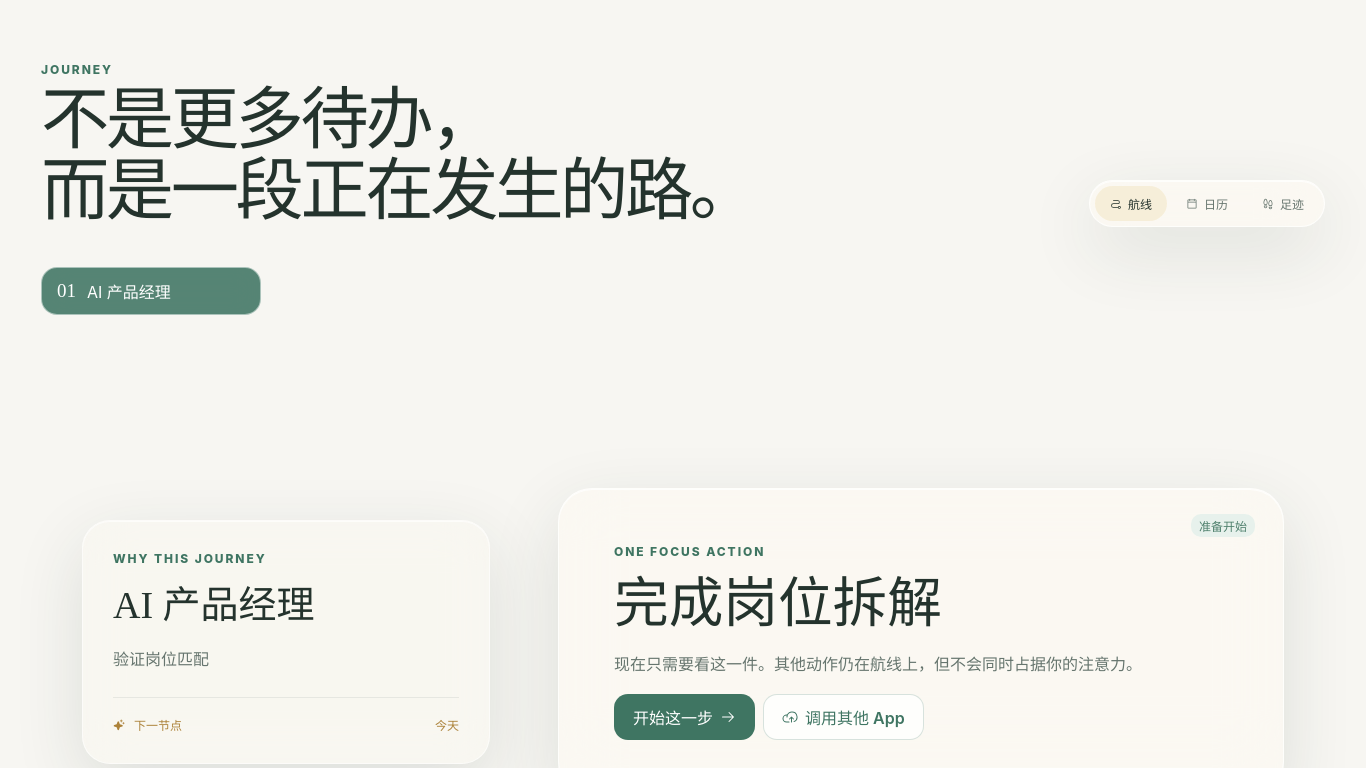
Test: Journey › requests a real external-action preview before offering confirmation
Click the button "调用其他 App" at (843, 717), box [763,694,924,740]
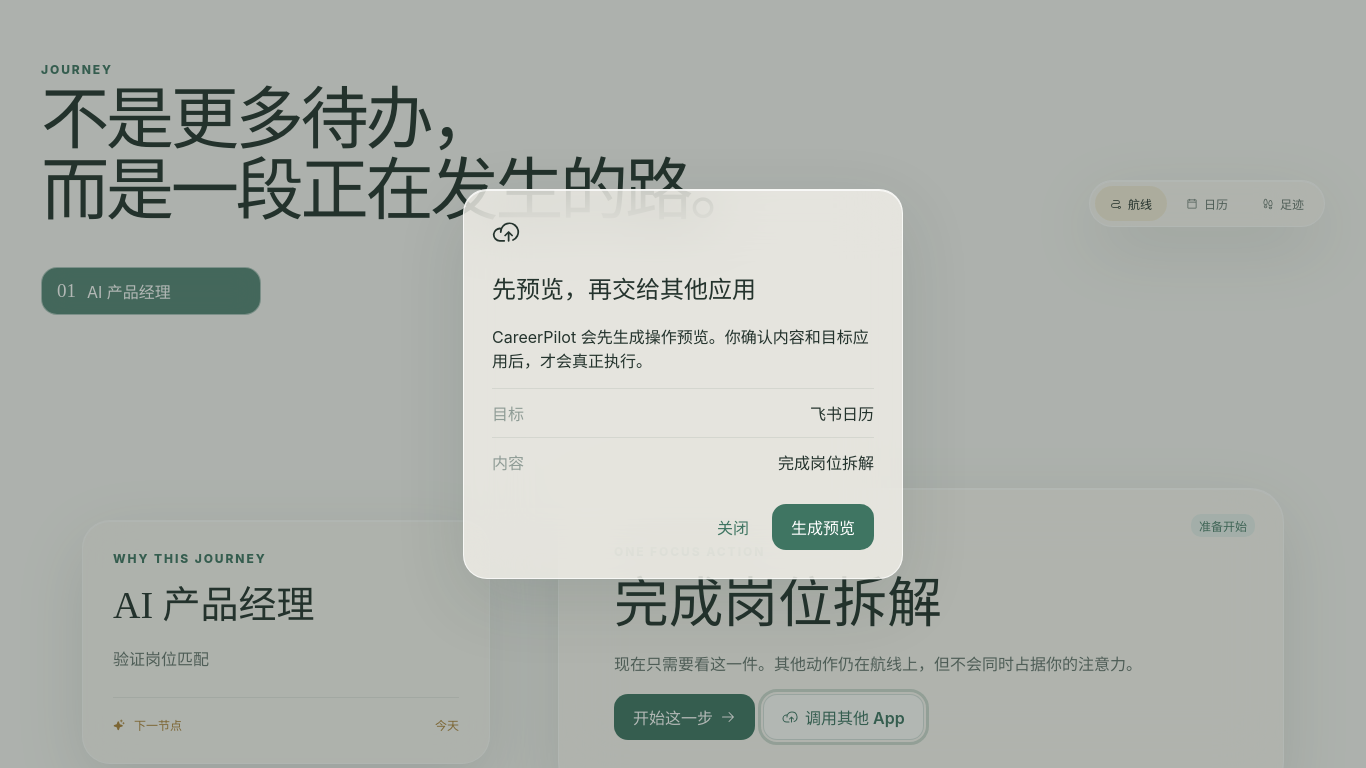
Click the button "生成预览" at (823, 527), box [772,504,874,550]
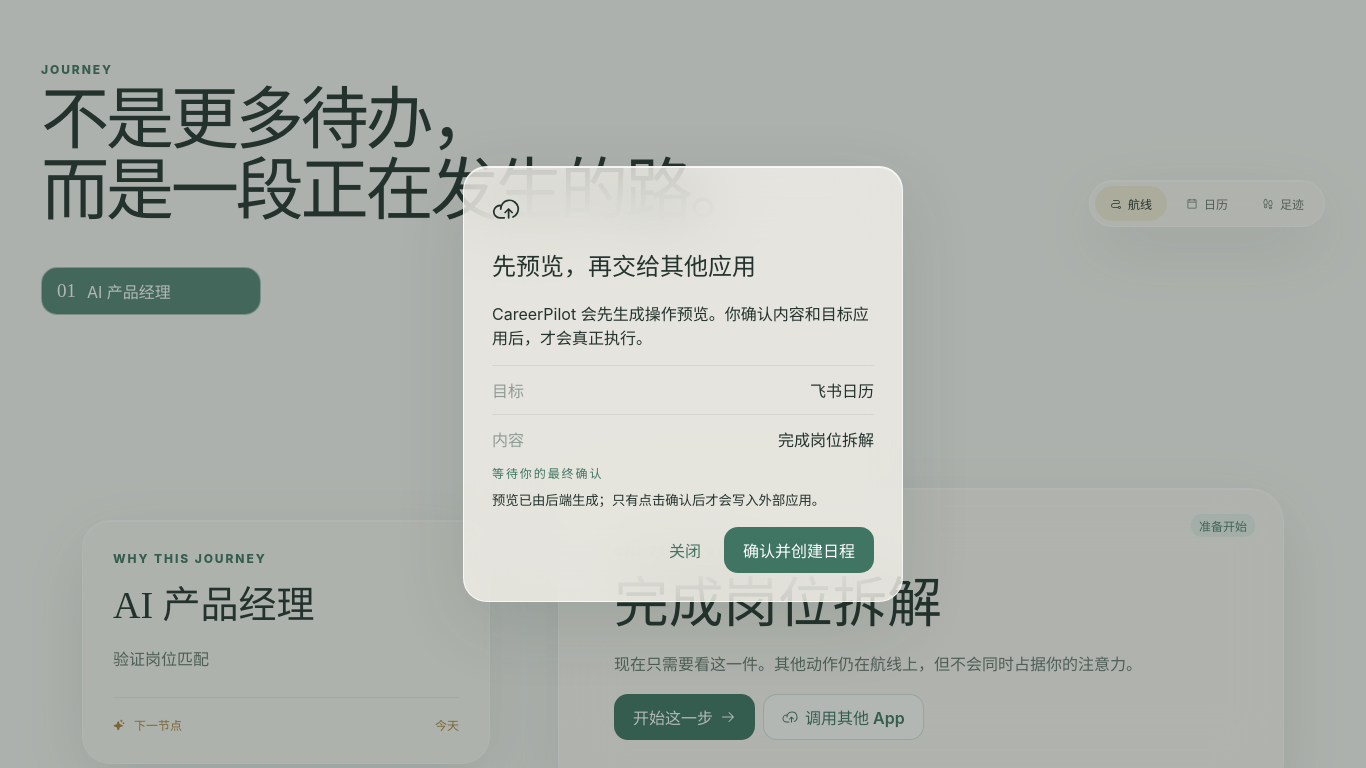
Check: the text "等待你的最终确认" is shown, box [492,466,603,481]
